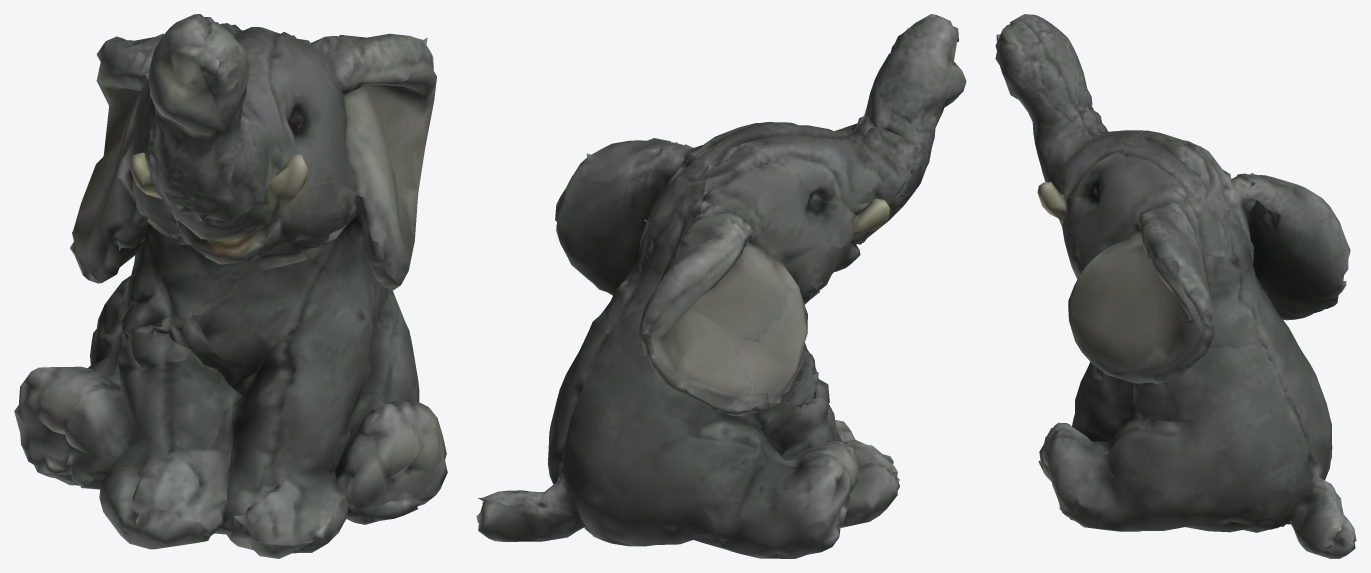
File: elephant.glb
3 views of the same model, side by side, from view 1: azimuth 30°, elevation 25°; view 2: azimuth 150°, elevation 25°; view 3: azimuth 270°, elevation 25° (orthographic). The views are drawn at different scales.
Parts seen in each view (by area): view 1: part0; view 2: part0; view 3: part0.
Boxes of the visible parts, x1=… form: part0: x1=14, y1=14, x2=447, y2=558; part0: x1=476, y1=14, x2=966, y2=558; part0: x1=995, y1=14, x2=1356, y2=558.
Bounding box in the file's own units: 0.0669 × 0.0945 × 0.073.
Materials: 1 (1 with a texture image).
